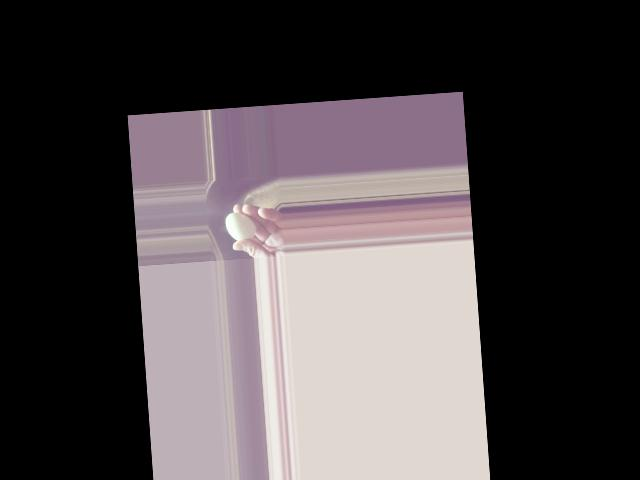egg: (225, 212, 256, 242)
